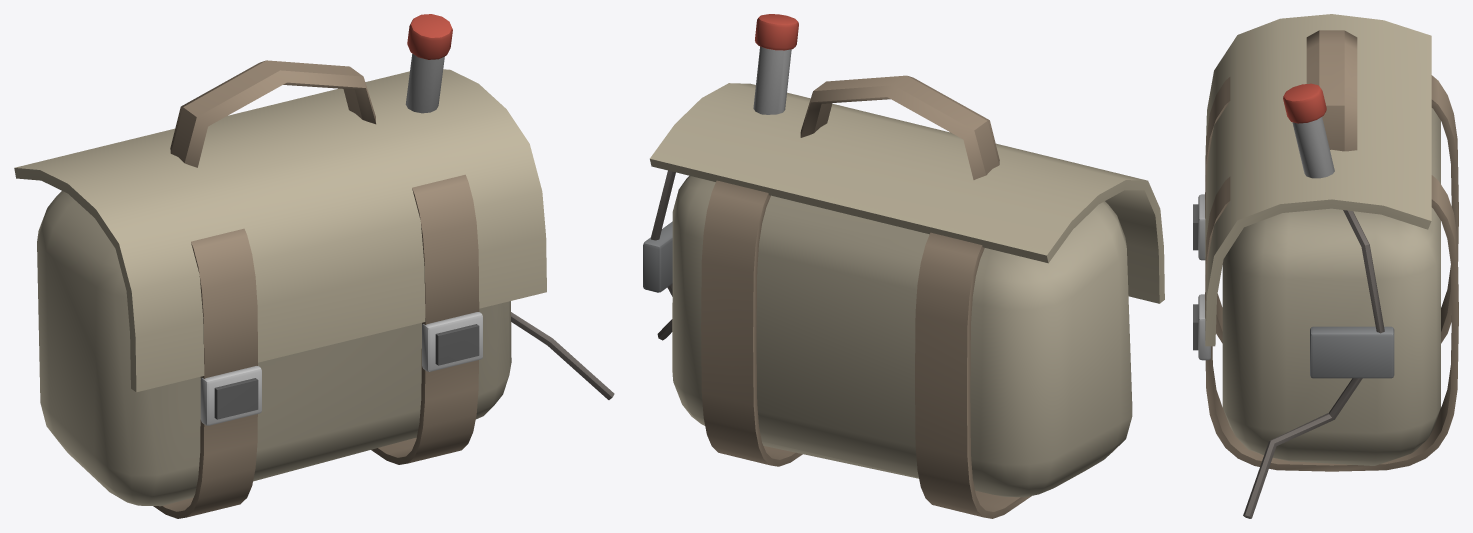
The model's file is bag-charge.glb.
3 renders of one model, left to right at view 1: azimuth 30°, elevation 25°; view 2: azimuth 150°, elevation 25°; view 3: azimuth 270°, elevation 25°, orthographic. The views are drawn at different scales.
Visible parts, largest first — view 1: Body_lod0; view 2: Body_lod0; view 3: Body_lod0.
Boxes of the visible parts, x1,y1,x2,y2 form: Body_lod0: [14, 14, 614, 518]; Body_lod0: [643, 14, 1164, 518]; Body_lod0: [1193, 14, 1458, 518].
Size of what is drawn, in the model's own units: 0.3171 by 0.2519 by 0.1574.
